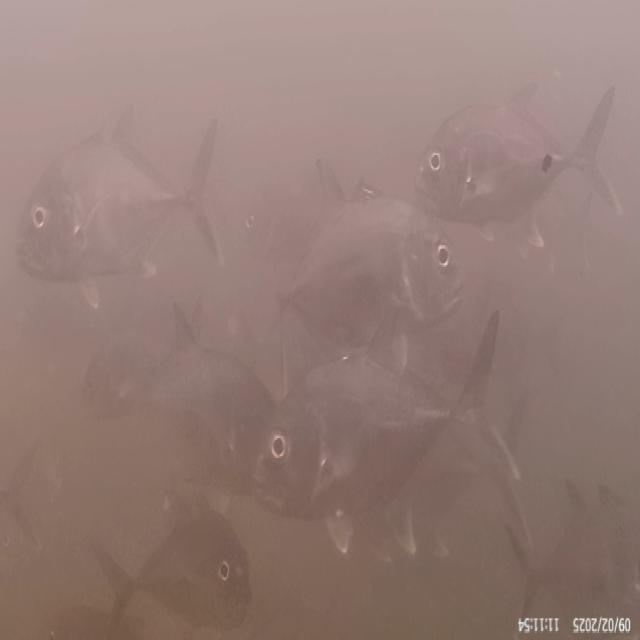ikan: (244, 333, 527, 518), (8, 126, 230, 305), (401, 96, 614, 240), (297, 182, 477, 331), (95, 496, 273, 624)
